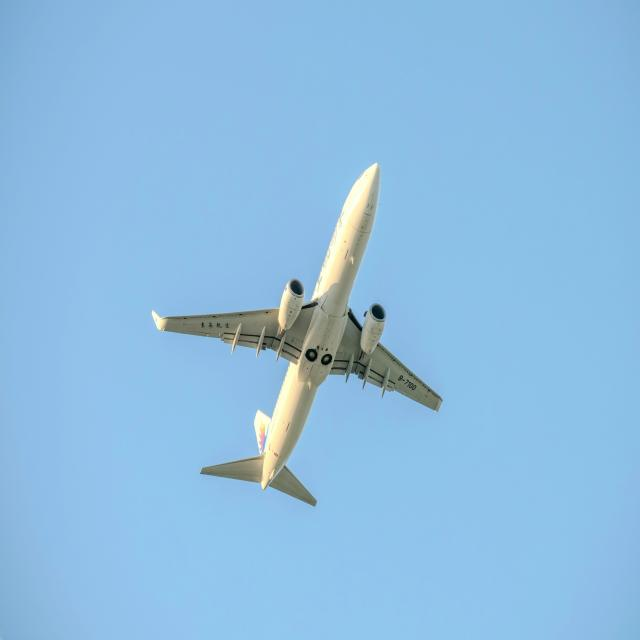aircraft: (116, 130, 490, 554)
